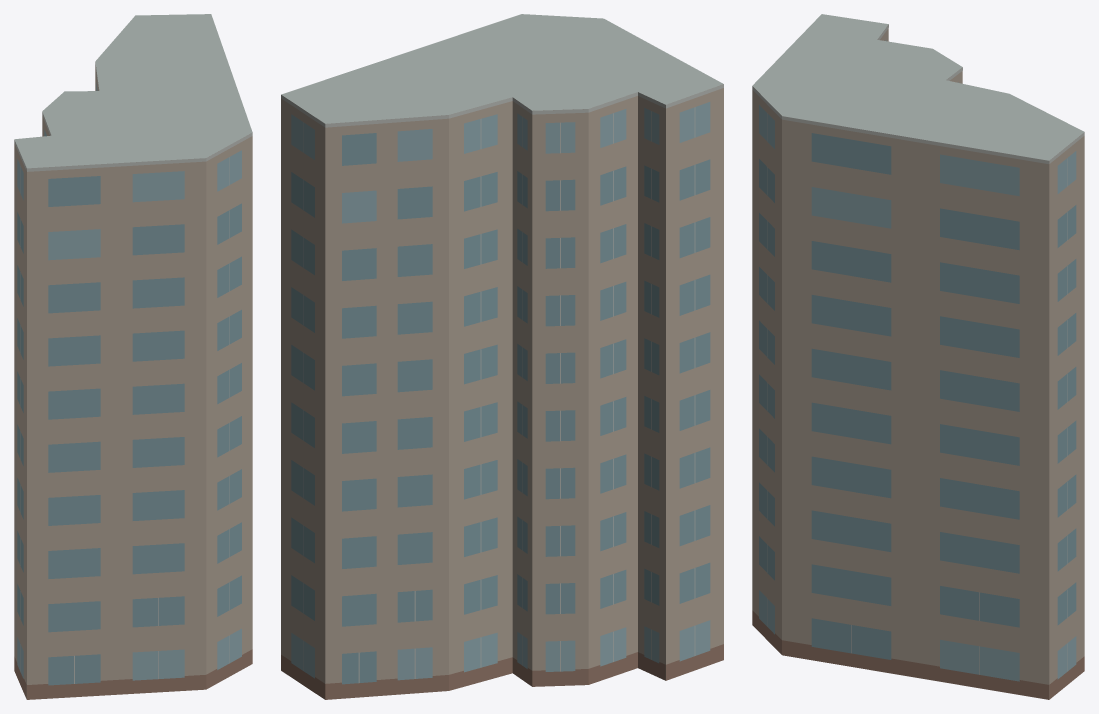
Rendered from survey-upis-32879549.glb.
3 renders of one model, left to right at view 1: azimuth 30°, elevation 25°; view 2: azimuth 150°, elevation 25°; view 3: azimuth 270°, elevation 25°, orthographic. The views are drawn at different scales.
Visible parts, largest first — view 1: survey-upis-32879549.tmp; view 2: survey-upis-32879549.tmp; view 3: survey-upis-32879549.tmp.
Boxes of the visible parts, x1,y1,x2,y2 form: survey-upis-32879549.tmp: (14,14,252,699); survey-upis-32879549.tmp: (281,14,723,699); survey-upis-32879549.tmp: (752,14,1084,699).
Size of the model in its own units: 21.76 by 37.25 by 20.83.
